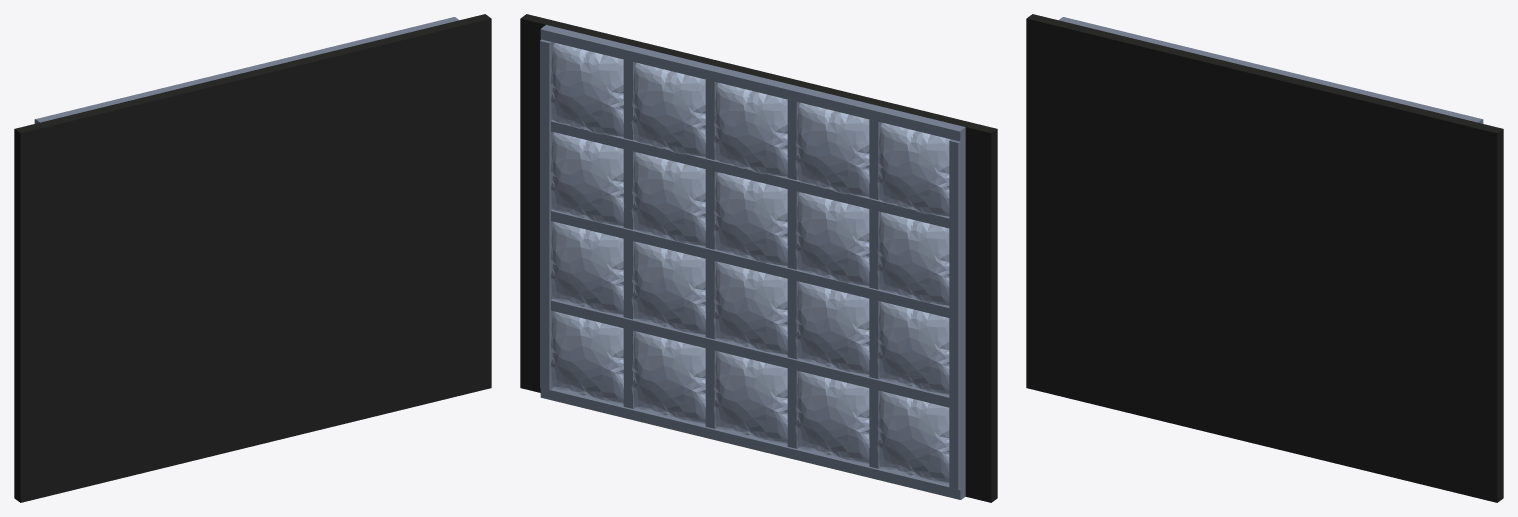
The model's file is pillow-wall-v2.fbx.
3 renders of one model, left to right at view 1: azimuth 30°, elevation 25°; view 2: azimuth 150°, elevation 25°; view 3: azimuth 330°, elevation 25°, orthographic.
Visible parts, largest first — view 1: pillow-wall-frame-v2.001, pillow-wall-frame-v2; view 2: pillow-wall-frame-v2, pillow-wall-frame-v2.001; view 3: pillow-wall-frame-v2.001, pillow-wall-frame-v2.
Part boxes in pixels (left/top/right/bottom): pillow-wall-frame-v2.001: left=14, top=14, right=491, bottom=502; pillow-wall-frame-v2: left=34, top=17, right=459, bottom=123; pillow-wall-frame-v2: left=540, top=25, right=965, bottom=499; pillow-wall-frame-v2.001: left=520, top=14, right=997, bottom=502; pillow-wall-frame-v2.001: left=1026, top=14, right=1503, bottom=502; pillow-wall-frame-v2: left=1058, top=17, right=1483, bottom=123.
Bounding box in the file's own units: 4.4 × 0.2691 × 3.3.
1 material, 1 textured.
